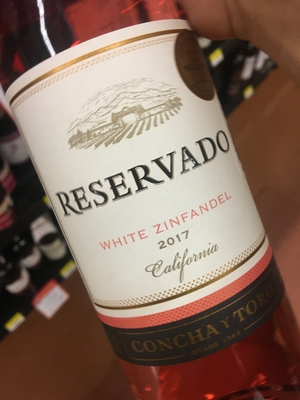reservado white zinfandel: (6, 18, 285, 400)
